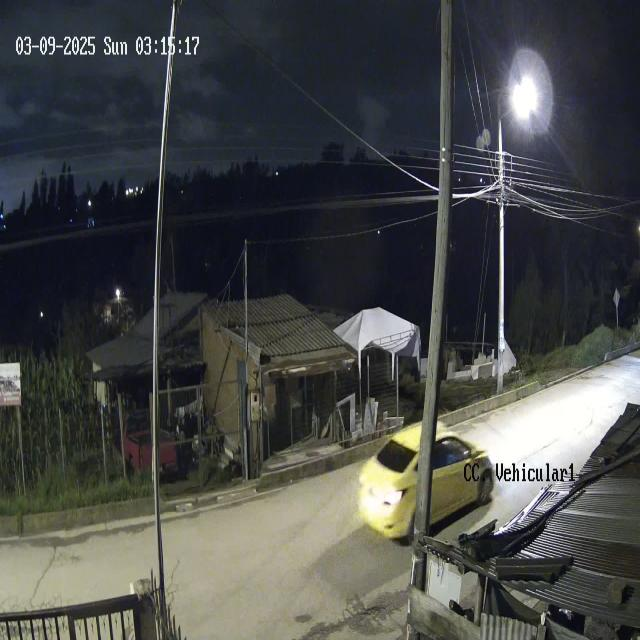SED: (355, 419, 497, 547)
